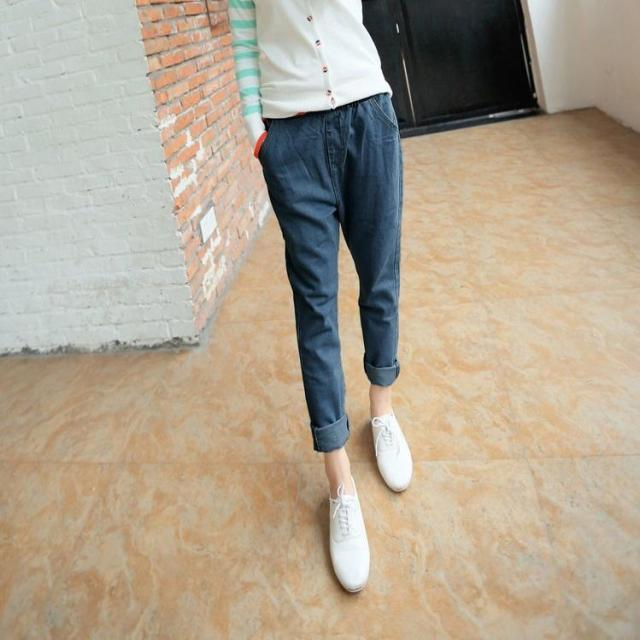trousers: (236, 77, 434, 453)
